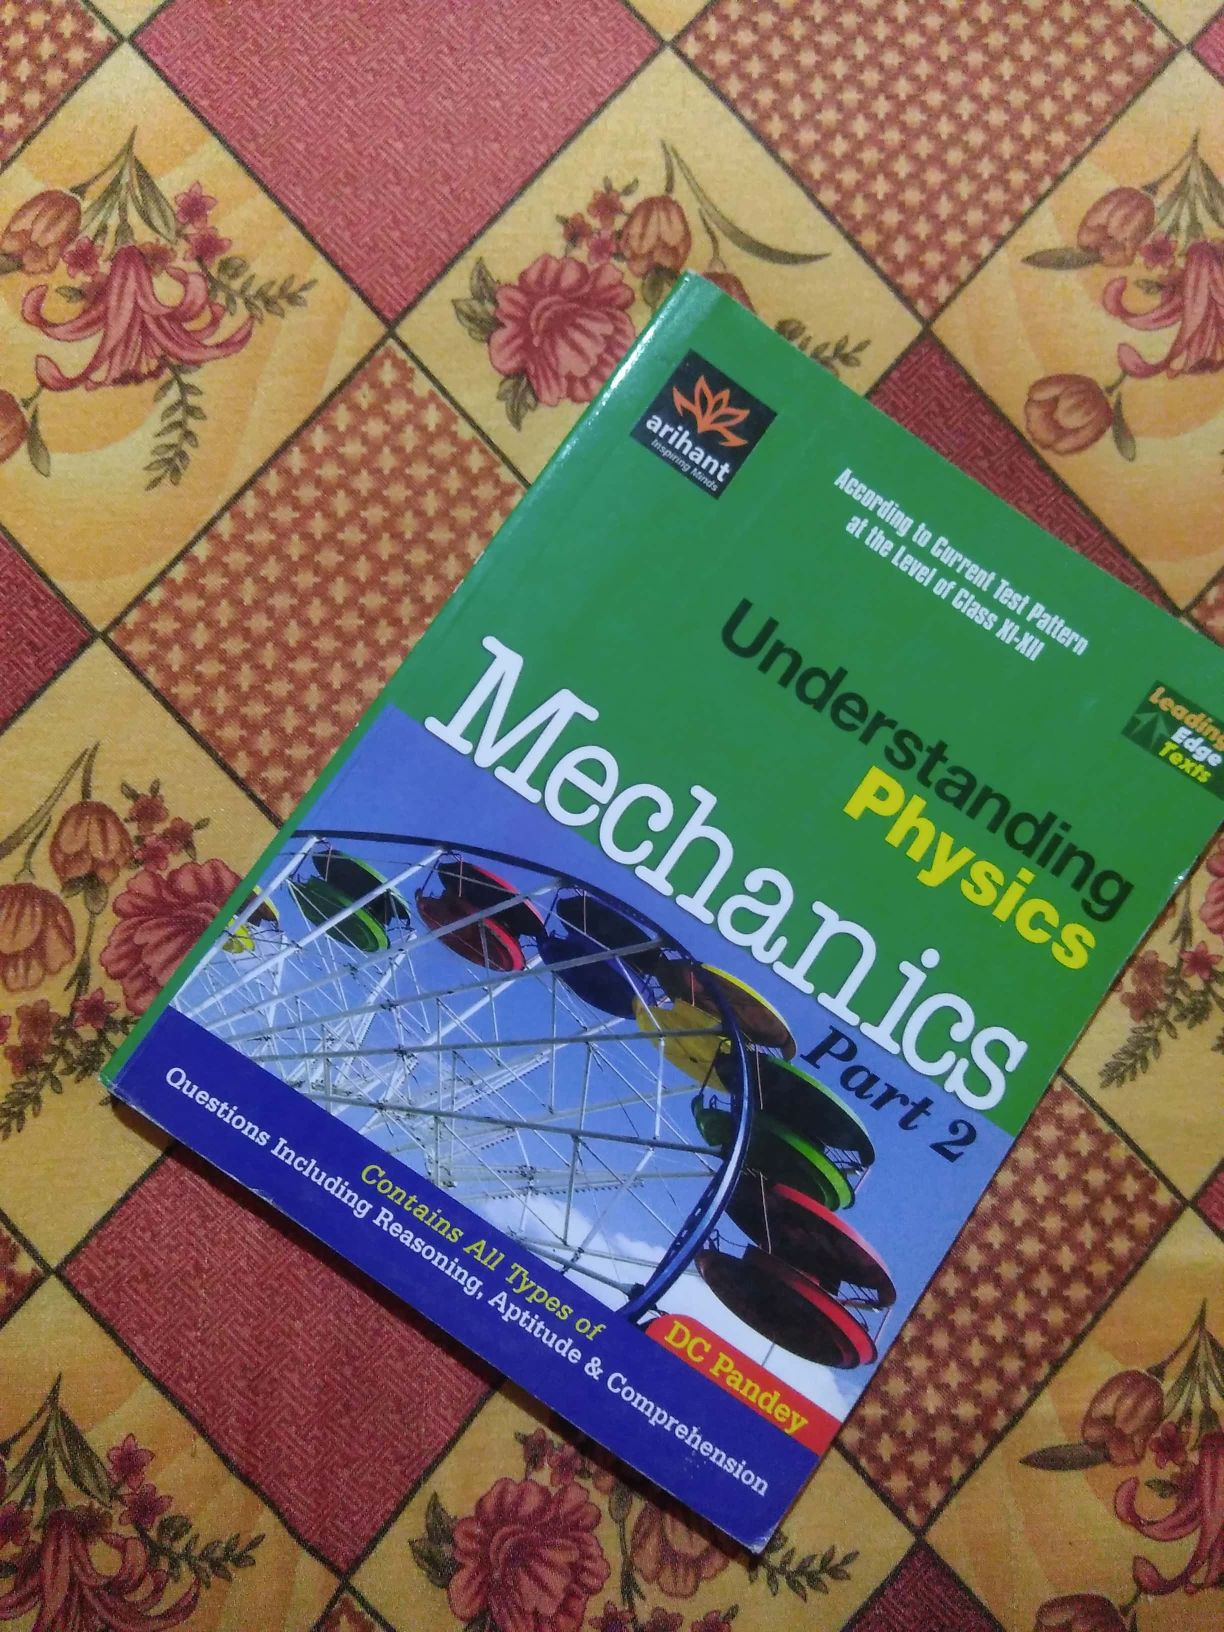mechanics: (192, 293, 1224, 1509)
